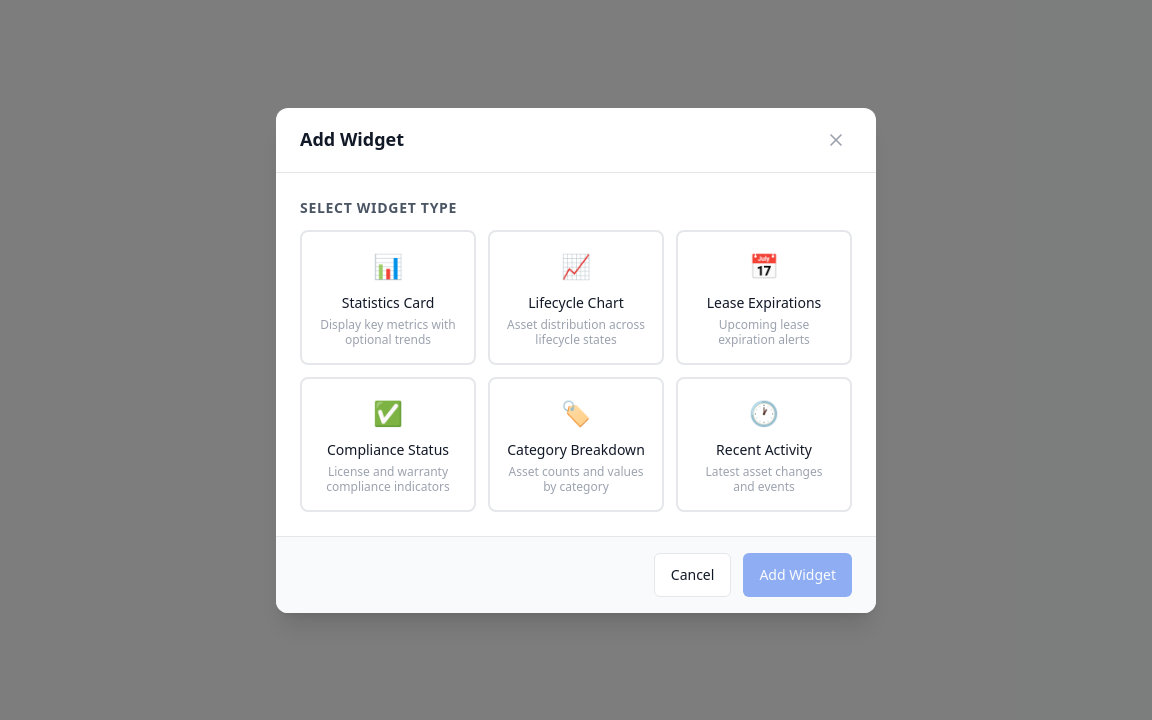
Test: WidgetPicker › Widget Selection › shows configuration form after selecting widget type
Click the option "📊 Statistics Card Display key metrics with optional trends" at (388, 297), box [300,230,476,364]
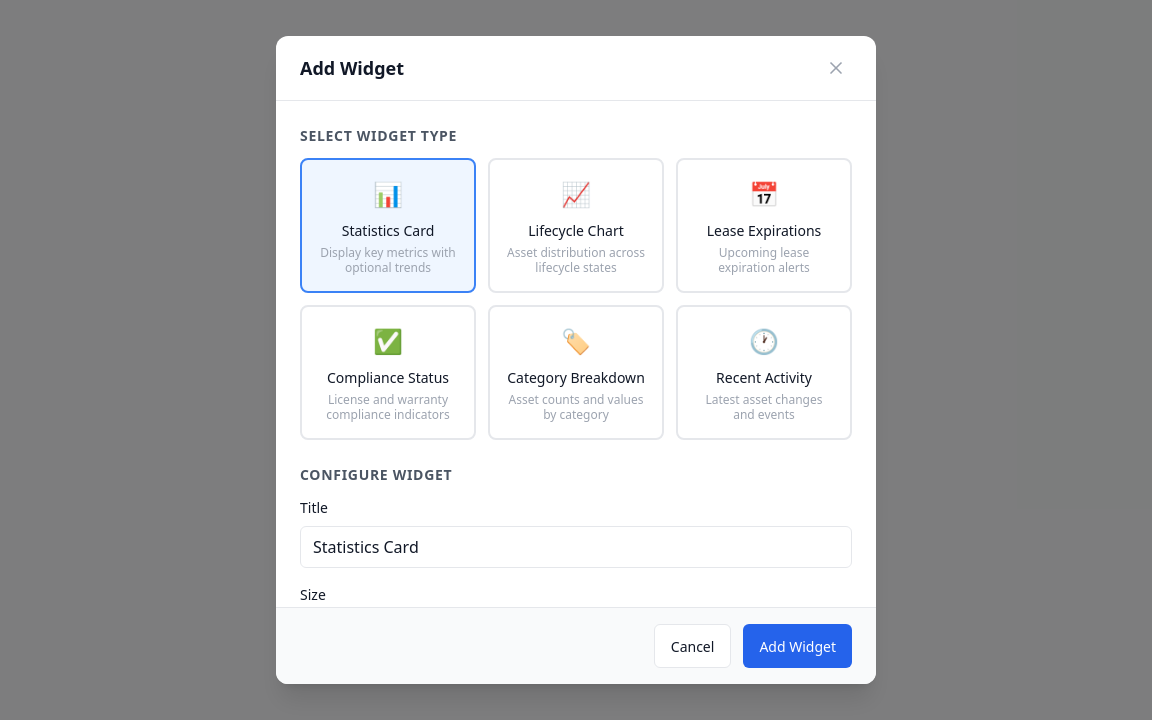
Now the field labelled "Title" is shown, box [300,526,852,568]
